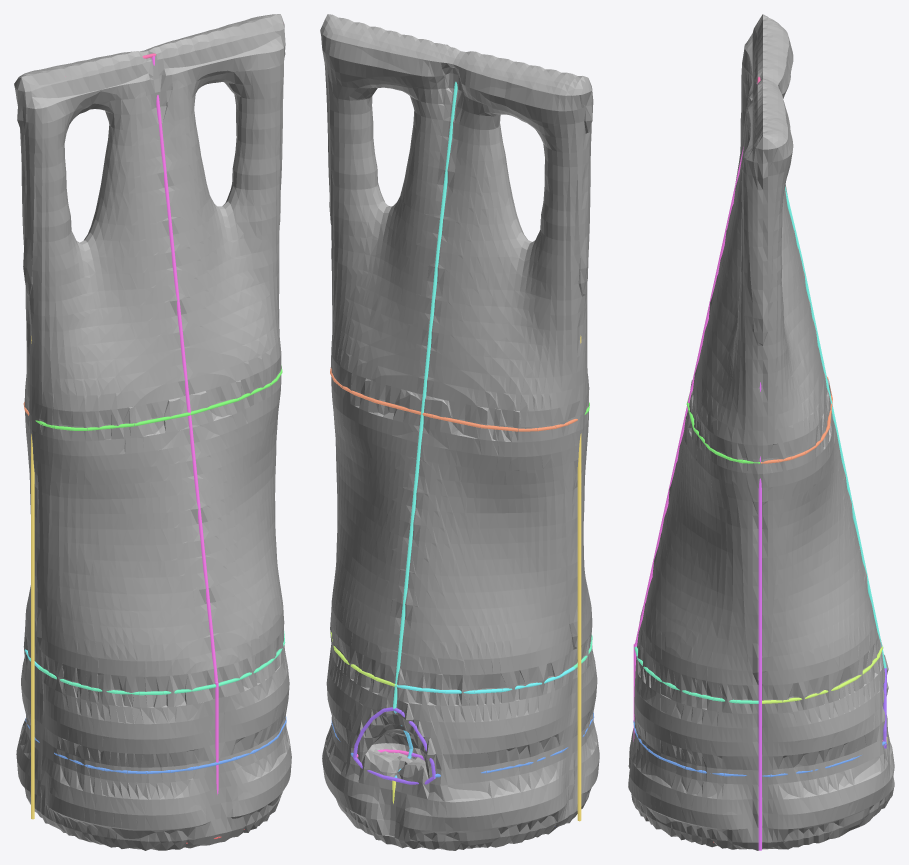
Rendered from t2f_toothpaste.gltf.
3 views of the same model, side by side, from view 1: azimuth 30°, elevation 25°; view 2: azimuth 150°, elevation 25°; view 3: azimuth 270°, elevation 25° (orthographic). The views are drawn at different scales.
Bounding box in the file's own units: 0.3425 × 0.9252 × 0.305.
